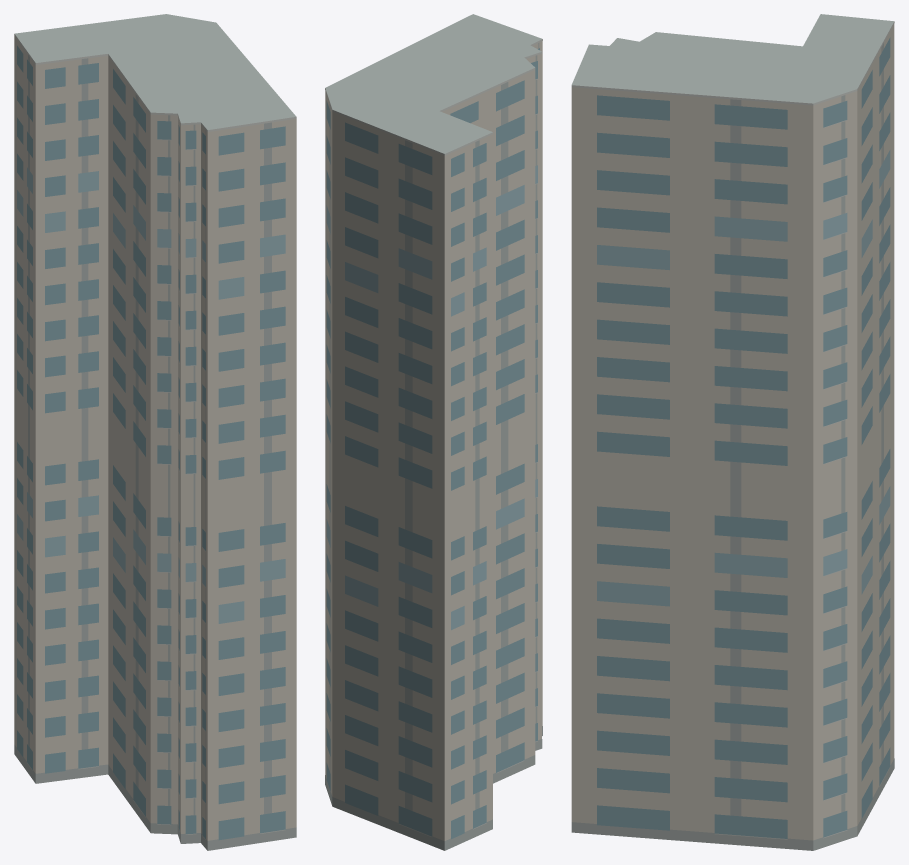
Rendered from residential-9d9a54c9-1283-41a4-9ad6-494545dc62f7.glb.
3 renders of one model, left to right at view 1: azimuth 30°, elevation 25°; view 2: azimuth 150°, elevation 25°; view 3: azimuth 270°, elevation 25°, orthographic. The views are drawn at different scales.
Visible parts, largest first — view 1: residential-9d9a54c9-1283-41a4-9ad6-494545dc62f7.tmp; view 2: residential-9d9a54c9-1283-41a4-9ad6-494545dc62f7.tmp; view 3: residential-9d9a54c9-1283-41a4-9ad6-494545dc62f7.tmp.
Boxes of the visible parts, x1,y1,x2,y2 form: residential-9d9a54c9-1283-41a4-9ad6-494545dc62f7.tmp: (14,14,296,850); residential-9d9a54c9-1283-41a4-9ad6-494545dc62f7.tmp: (325,14,542,850); residential-9d9a54c9-1283-41a4-9ad6-494545dc62f7.tmp: (571,14,894,850).
Bounding box in the file's own units: 22.89 × 89 × 34.87.
